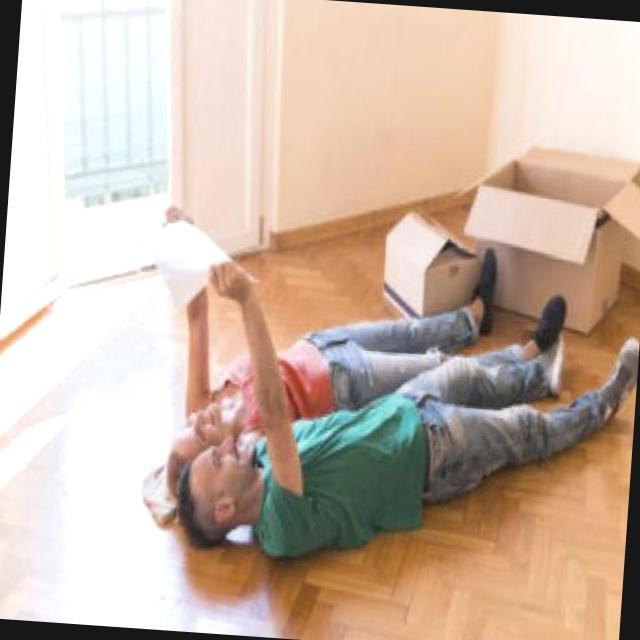box: (452, 96, 640, 368), (364, 184, 488, 373)
